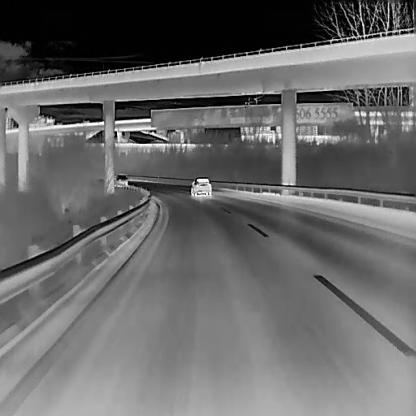car: (190, 176, 212, 196), (114, 174, 129, 187)
